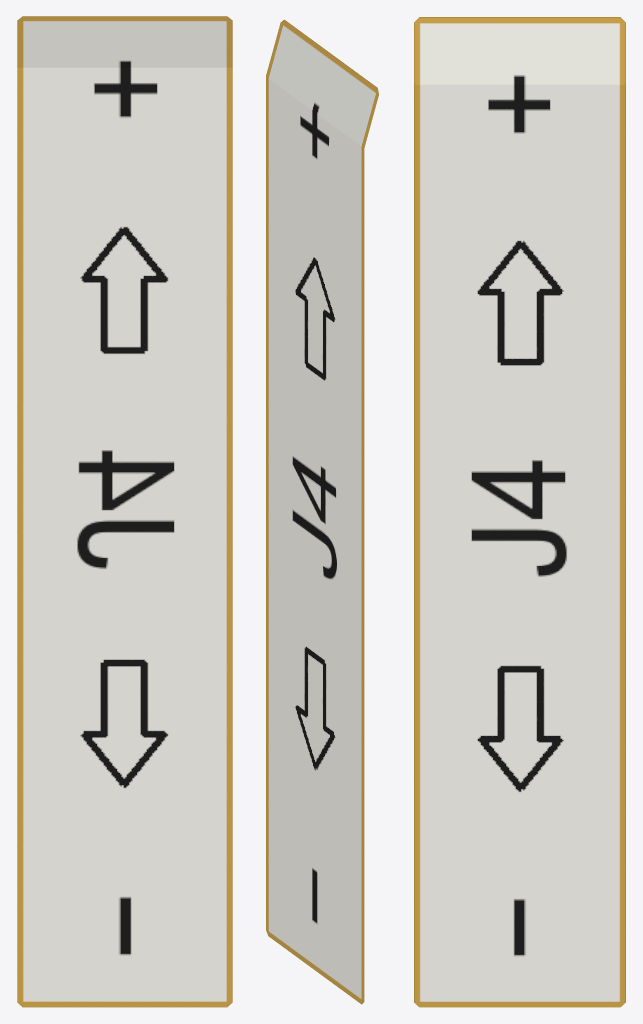
File: J4_sticker_active.glb
3 renders of one model, left to right at view 1: azimuth 90°, elevation 25°; view 2: azimuth 210°, elevation 25°; view 3: azimuth 270°, elevation 25°, orthographic. The views are drawn at different scales.
Size of the model in its own units: 0.00106 by 0.055 by 0.011.
Materials: 1 (1 with a texture image).
